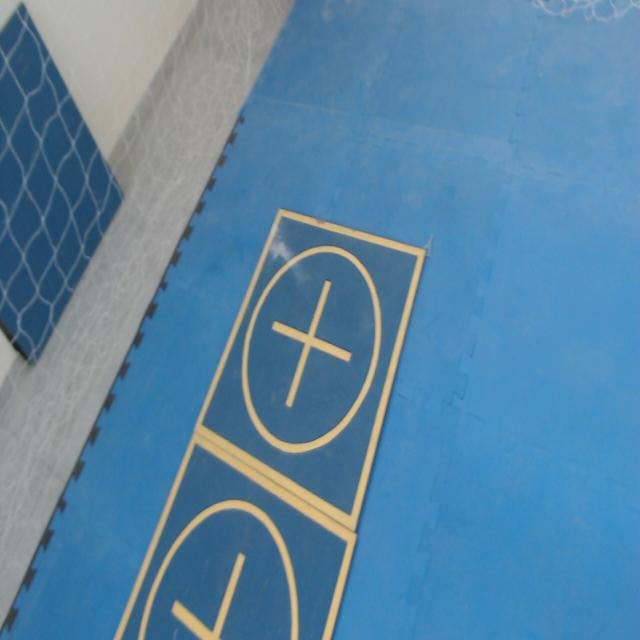base_pouso: (193, 206, 424, 531), (112, 429, 356, 639)
